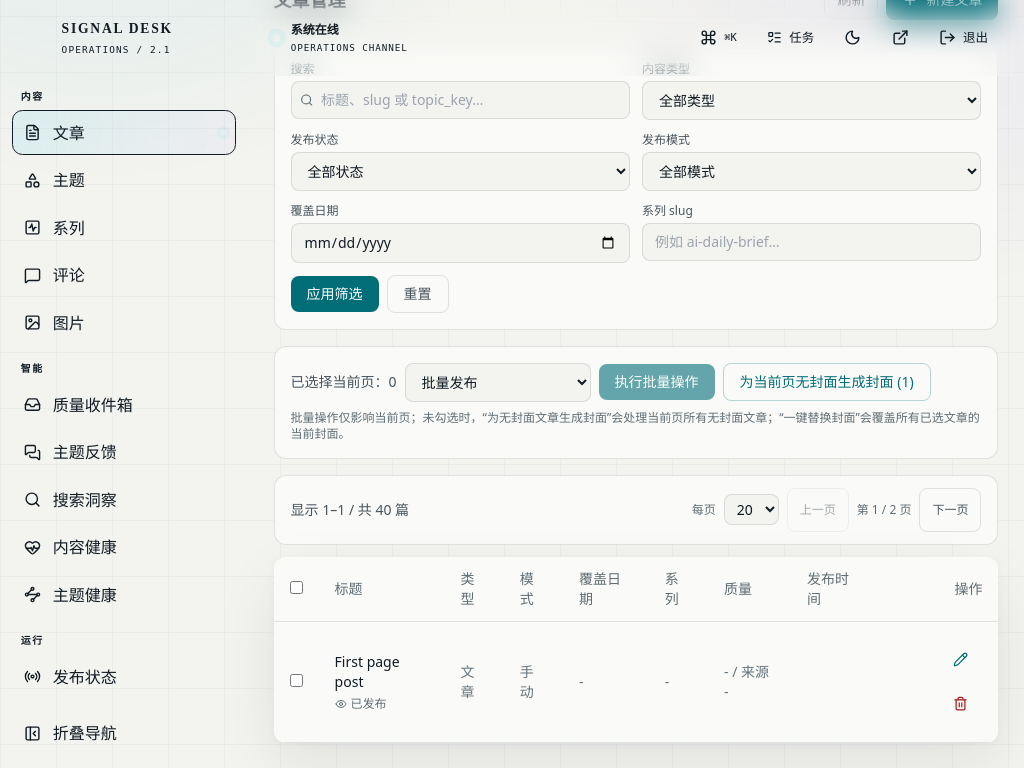
Test: resets pagination to the first page when applying filters
(page scrolled)
Expected: the text "First page post" is shown, [335,652,400,691]
Click the button "下一页": (950,510) [919,488,981,532]
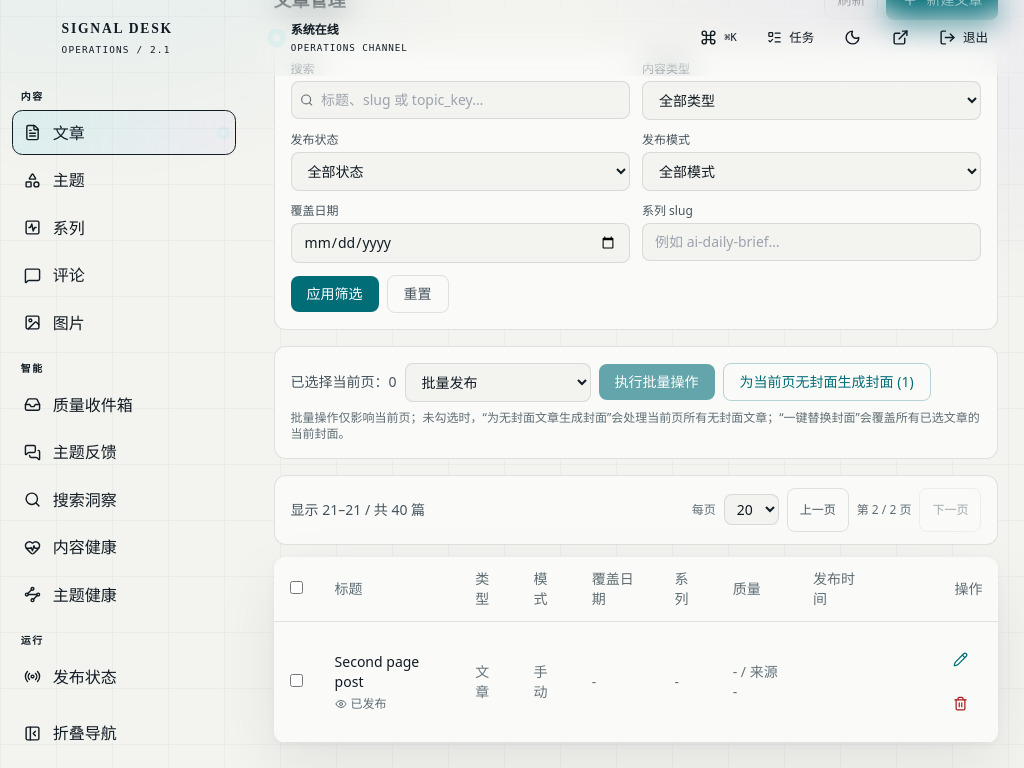
Expected: the text "Second page post" is shown, [335,652,419,691]
In the field labelled "搜索": (467,100) [313,82,621,118], type "filtered"
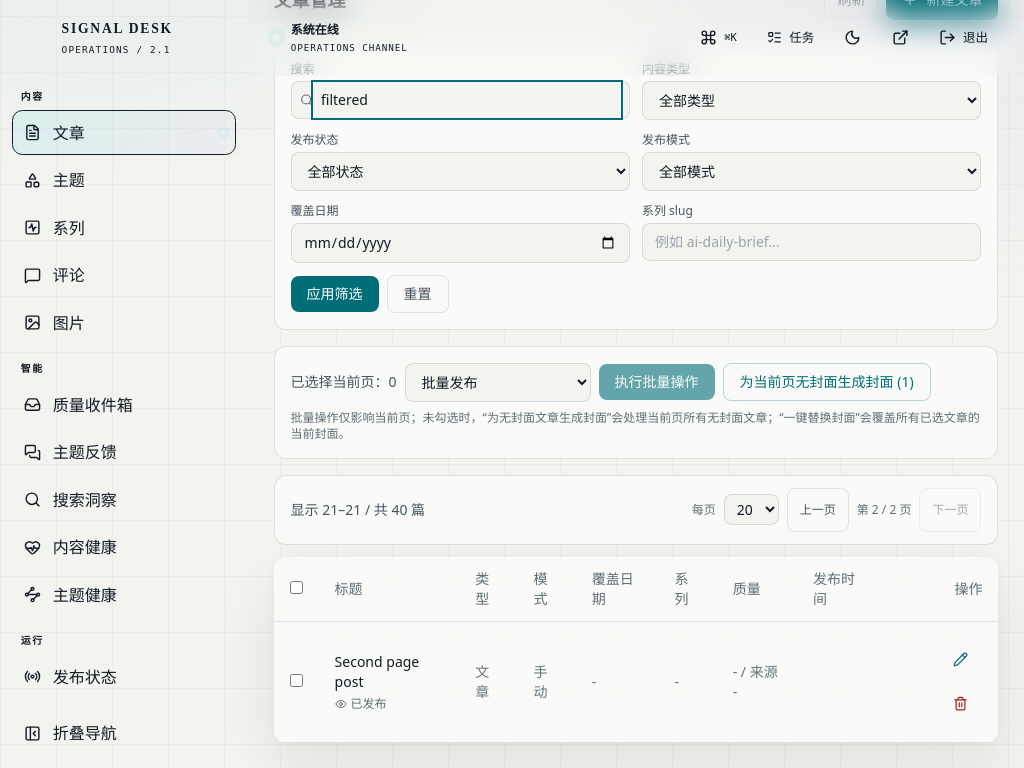
Click the button "应用筛选": (335,294) [291,276,379,312]
(page scrolled)
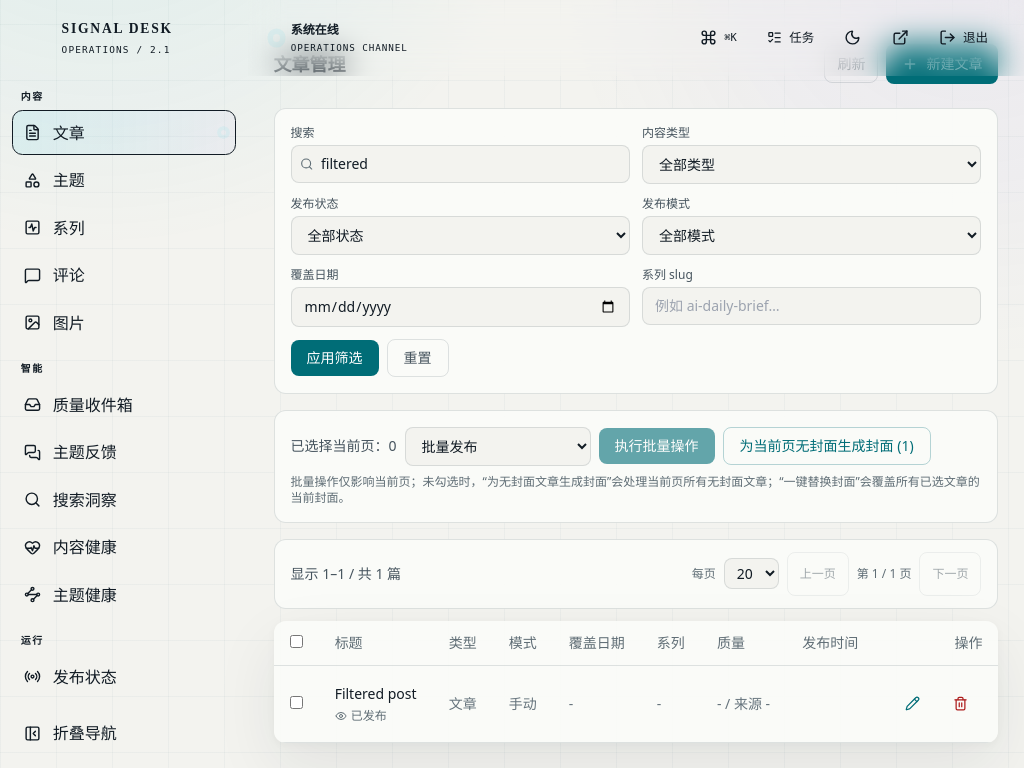
Expected: the text "Filtered post" is shown, [335,684,416,704]
